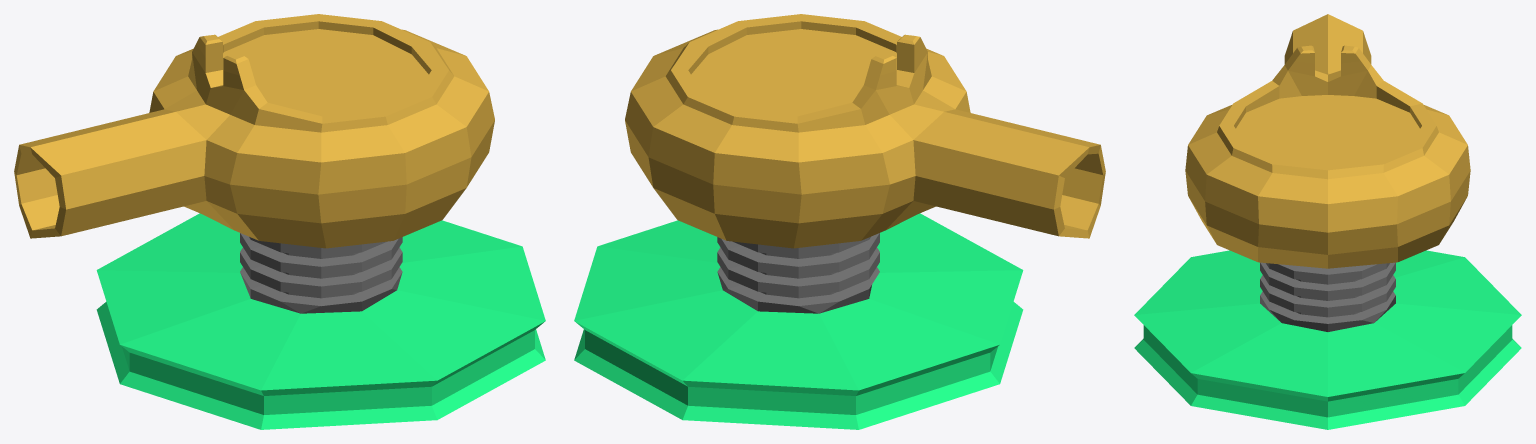
Rendered from Sentry_Gun.fbx.
3 renders of one model, left to right at view 1: azimuth 30°, elevation 25°; view 2: azimuth 150°, elevation 25°; view 3: azimuth 270°, elevation 25°, orthographic. The views are drawn at different scales.
Parts seen in each view (by area): view 1: Gun, Base; view 2: Gun, Base; view 3: Base, Gun.
Part boxes in pixels (x1,y1,x2,y2): Gun: (14, 14, 494, 248); Base: (96, 213, 545, 429); Gun: (625, 14, 1105, 248); Base: (574, 213, 1023, 429); Base: (1134, 250, 1521, 429); Gun: (1185, 14, 1470, 268).
Size of the model in its own units: 338 by 205 by 277.
